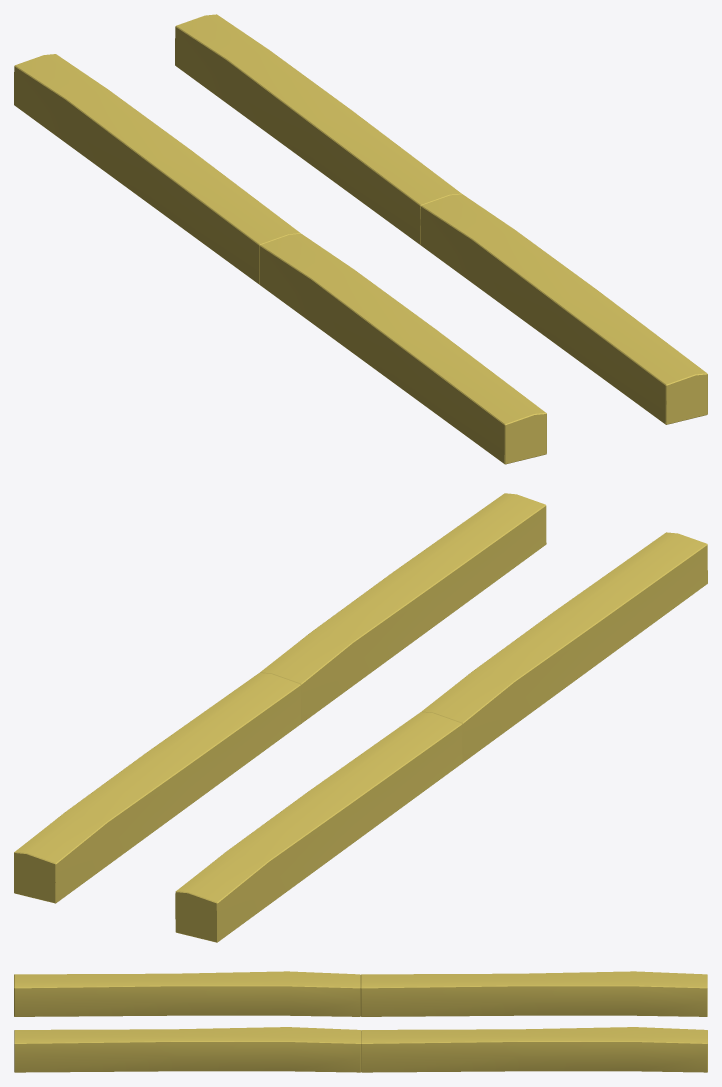
The model's file is Wood_Platform_03B_Lod0.fbx.
The picture shows the model from 3 angles, top to bottom: view 1: azimuth 30°, elevation 25°; view 2: azimuth 150°, elevation 25°; view 3: azimuth 270°, elevation 25°; orthographic projection. The views are drawn at different scales.
Parts seen in each view (by area): view 1: Wood_Platform_03B_Lod0; view 2: Wood_Platform_03B_Lod0; view 3: Wood_Platform_03B_Lod0.
Boxes of the visible parts, bbox=[...] form: Wood_Platform_03B_Lod0: bbox=[14, 14, 707, 464]; Wood_Platform_03B_Lod0: bbox=[14, 493, 707, 942]; Wood_Platform_03B_Lod0: bbox=[14, 971, 707, 1072].
Bounding box in the file's own units: 146 × 30.07 × 600.
